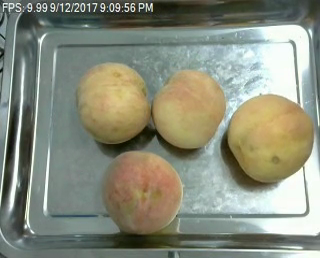Peach: (226, 93, 313, 181), (103, 150, 182, 233), (75, 61, 150, 144), (152, 69, 226, 148)
